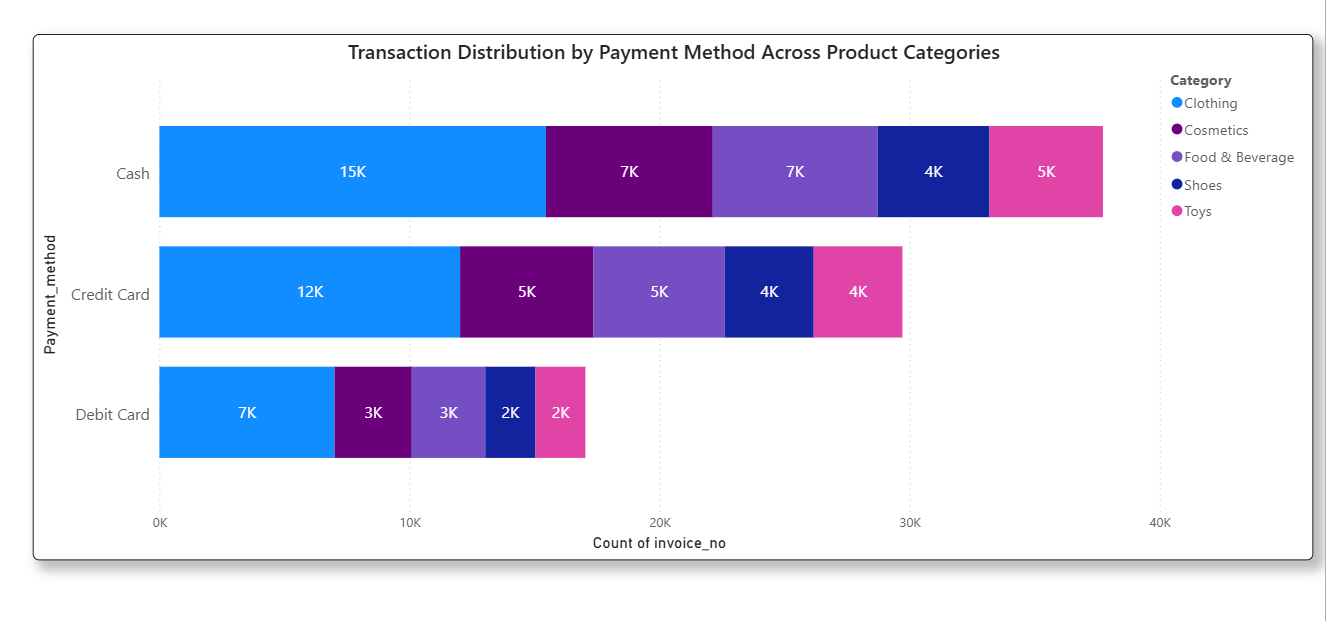

The dashboard page shown, as its layout file describes it:
{"tool":"powerbi","page":{"name":"Transaction Distribution by Payment Method Across Product Categories","canvas":[1280,720],"ordinal":8},"visuals":[{"type":"barChart","title":"Transaction Distribution by Payment Method Across Product Categories","fields":{"Category":["customer_data.payment_method"],"Y":["CountNonNull(customer_data.invoice_no)"],"Series":["customer_data.category"]},"box":[78.4,134.9,1191.3,489.6],"z":0}]}

Visuals, with their boxes on the page's 1280x720 design canvas (x1, y1, x2, y2). These are canvas units, not pixel positions in the 1328x621 screenshot, which may show the page scaled, cropped or inside an application window:
"Transaction Distribution by Payment Method Across Product Categories" barChart: detection(78, 135, 1270, 624)
